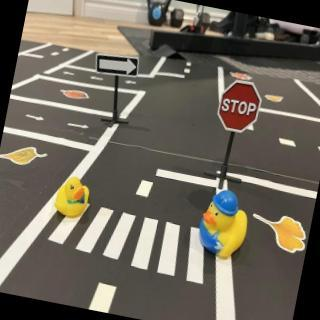duck_regular: (52, 174, 95, 224)
duck_specialty: (194, 186, 255, 263)
road_crosswalk: (41, 196, 215, 286)
road_oneway: (65, 119, 92, 134), (23, 112, 48, 125), (89, 73, 106, 84), (62, 69, 77, 80), (123, 78, 139, 87)
sign_oneway_right: (93, 50, 142, 82)
sign_stop: (216, 80, 263, 136)
